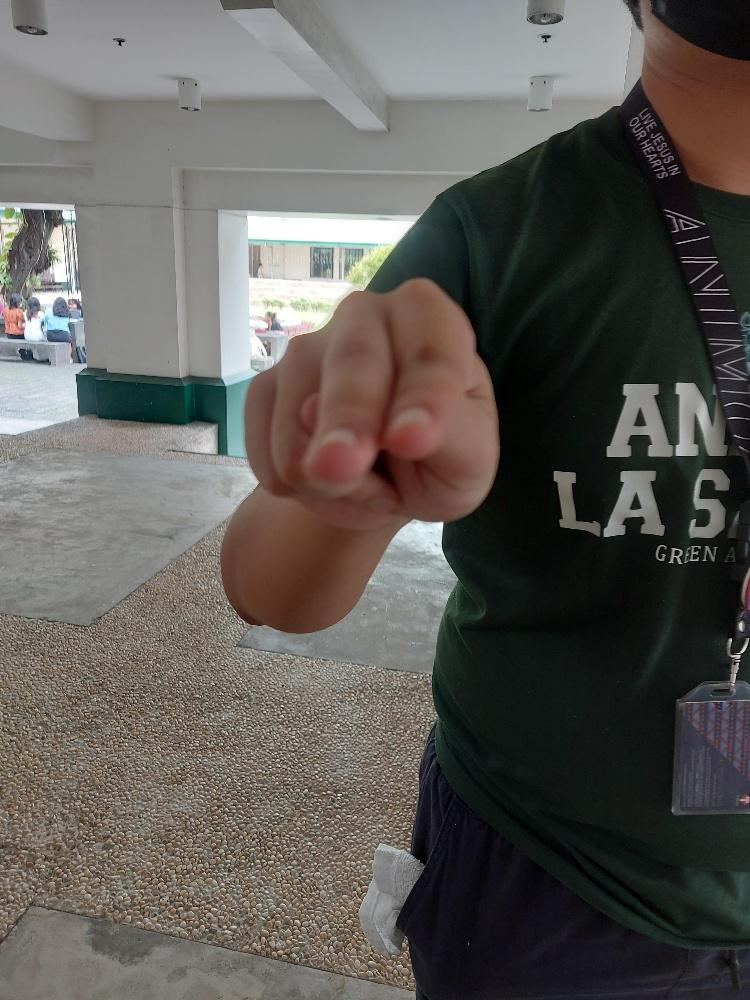n: (239, 273, 498, 522)
